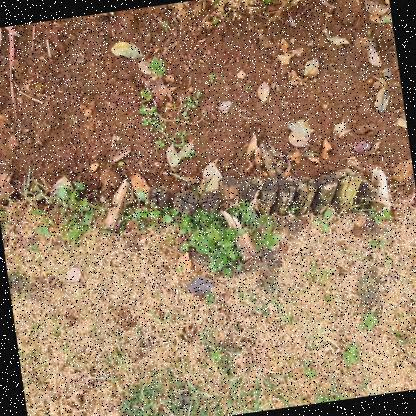Weeds: (126, 172, 284, 288), (132, 51, 210, 163), (24, 181, 96, 243), (341, 339, 363, 366), (357, 310, 380, 334), (310, 211, 334, 233), (370, 204, 395, 225), (209, 345, 225, 361)
